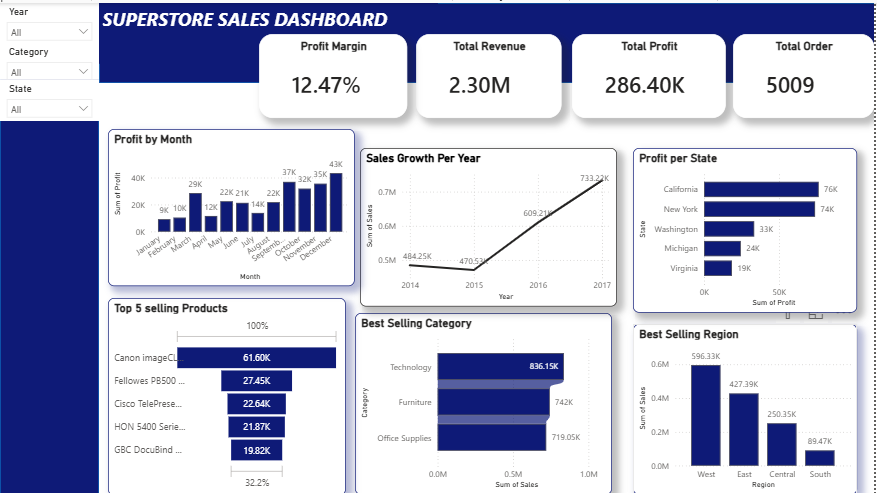

The dashboard page shown, as its layout file describes it:
{"tool":"powerbi","page":{"name":"Page 1","canvas":[1280,720],"ordinal":0},"visuals":[{"type":"clusteredColumnChart","title":"Best Selling Region","fields":{"Y":["Sum(Sample___Superstore.Sales)"],"Category":["Sample___Superstore.Region"]},"box":[926.3,469.8,327.8,250.2],"z":0},{"type":"shape","box":[0,0,144.9,720],"z":1000},{"type":"barChart","title":"Best Selling Category","fields":{"Y":["Sum(Sample___Superstore.Sales)"],"Category":["Sample___Superstore.Category"]},"box":[519.5,453.7,376.1,266.3],"z":2000},{"type":"lineChart","title":"Sales Growth Per Year","fields":{"Category":["Sample___Superstore.Order Date.Variation.Date Hierarchy.Year"],"Y":["Sum(Sample___Superstore.Sales)"]},"box":[527.5,211.7,376.3,231.8],"z":3000},{"type":"barChart","title":"Profit per State","fields":{"Y":["Sum(Sample___Superstore.Profit)"],"Category":["Sample___Superstore.State"]},"box":[926.3,212.2,327.8,241.5],"z":4000},{"type":"shape","box":[144.9,0,1135.6,117.1],"z":5000},{"type":"slicer","fields":{"Values":["Sample___Superstore.Order Date.Variation.Date Hierarchy.Year"]},"box":[0,0,144.9,58.5],"z":6000},{"type":"slicer","fields":{"Values":["Sample___Superstore.Category"]},"box":[0,58.5,144.9,54.1],"z":7000},{"type":"slicer","fields":{"Values":["Sample___Superstore.State"]},"box":[0,112.7,144.9,60],"z":8000},{"type":"textbox","box":[144.5,0,495.5,89],"z":9000},{"type":"cardVisual","title":"Total Revenue","fields":{"Data":["Sum(Sample___Superstore.Sales)"]},"box":[608.1,45.4,213.3,122.6],"z":10000},{"type":"cardVisual","title":"Total Profit","fields":{"Data":["Sum(Sample___Superstore.Profit)"]},"box":[836.5,45.4,225.1,122.6],"z":11000},{"type":"cardVisual","title":"Total Order","fields":{"Data":["Count(Sample___Superstore.Order ID)"]},"box":[1073.4,45.4,206.6,122.6],"z":12000},{"type":"cardVisual","title":"Profit Margin","fields":{"Data":["Sample___Superstore.Profit Margin"]},"box":[379.6,45.4,216.7,122.6],"z":14000},{"type":"funnel","title":"Top 5 selling Products","fields":{"Category":["Sample___Superstore.Product Name"],"Y":["Sum(Sample___Superstore.Sales)"]},"box":[157.9,431.7,347.7,288.9],"z":15000},{"type":"columnChart","title":"Profit by Month","fields":{"Category":["Sample___Superstore.Order Date.Variation.Date Hierarchy.Month"],"Y":["Sum(Sample___Superstore.Profit)"]},"box":[157.9,184.8,361.2,230.1],"z":16000}]}

Visuals, with their boxes in screenshot pixels (x1, y1, x2, y2), scaled from the page's 1280x720 canvas onto the 877x493 screenshot:
"Best Selling Region" clusteredColumnChart: locate(635, 322, 859, 492)
shape: locate(0, 0, 99, 492)
"Best Selling Category" barChart: locate(356, 311, 614, 492)
"Sales Growth Per Year" lineChart: locate(361, 145, 619, 304)
"Profit per State" barChart: locate(635, 145, 859, 311)
shape: locate(99, 0, 876, 80)
slicer - Sample___Superstore.Order Date.Variation.Date Hierarchy.Year: locate(0, 0, 99, 40)
slicer - Sample___Superstore.Category: locate(0, 40, 99, 77)
slicer - Sample___Superstore.State: locate(0, 77, 99, 118)
textbox: locate(99, 0, 438, 61)
"Total Revenue" cardVisual: locate(417, 31, 563, 115)
"Total Profit" cardVisual: locate(573, 31, 727, 115)
"Total Order" cardVisual: locate(735, 31, 876, 115)
"Profit Margin" cardVisual: locate(260, 31, 409, 115)
"Top 5 selling Products" funnel: locate(108, 296, 346, 492)
"Profit by Month" columnChart: locate(108, 127, 356, 284)
